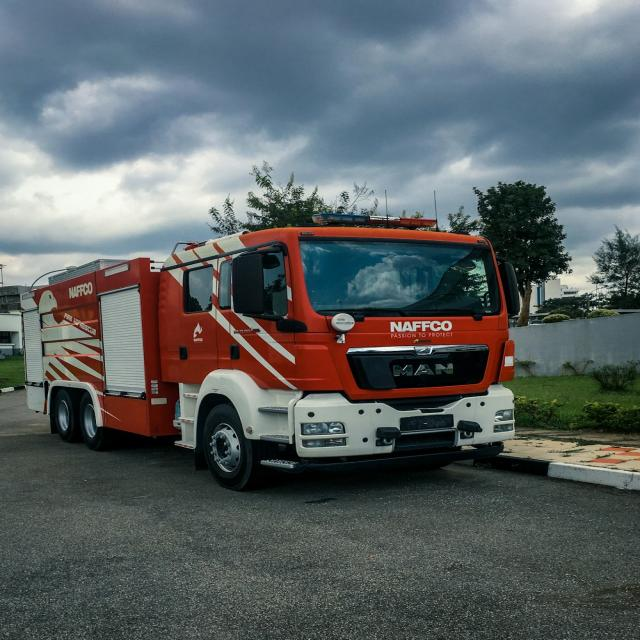emergency: (22, 215, 518, 489)
